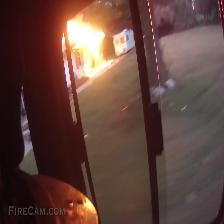fire: (66, 18, 106, 54)
